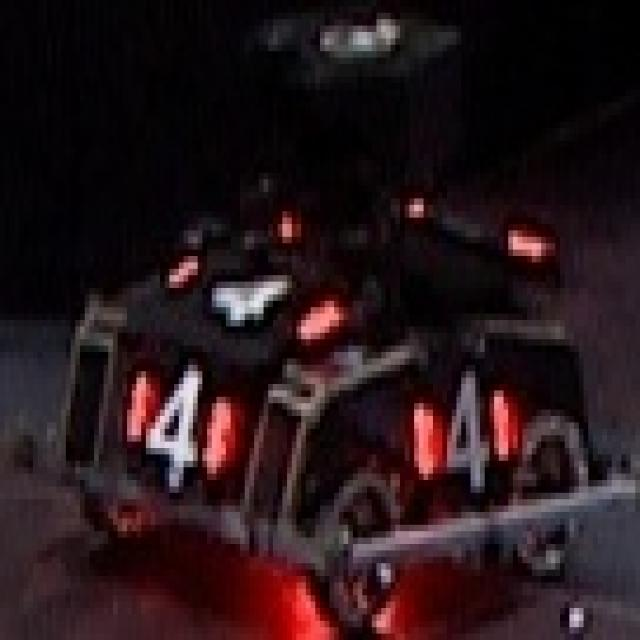R4: (122, 358, 230, 493), (409, 371, 513, 493)
